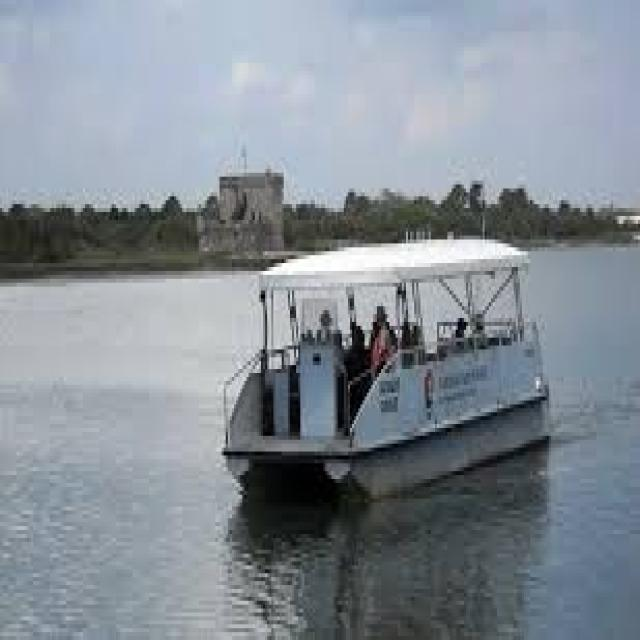houseboat: (228, 221, 538, 497)
